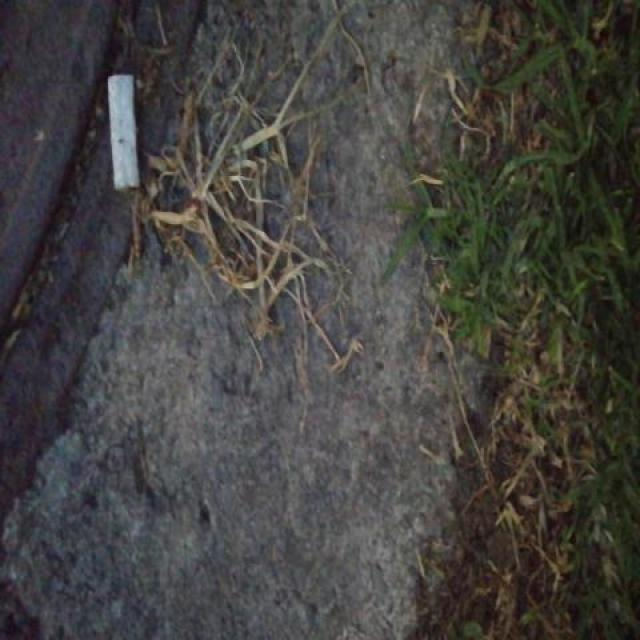non-organic waste: (103, 70, 144, 194)
